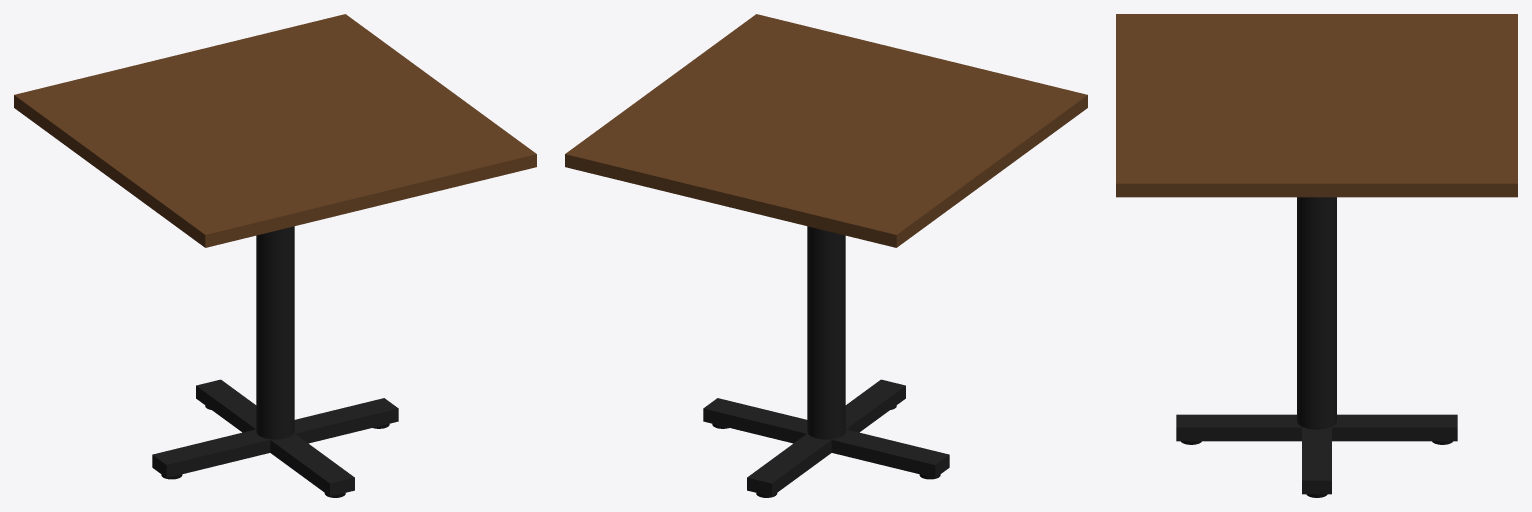
Rendered from mesa-cruceta.glb.
3 views of the same model, side by side, from view 1: azimuth 30°, elevation 25°; view 2: azimuth 150°, elevation 25°; view 3: azimuth 270°, elevation 25° (orthographic). The views are drawn at different scales.
Visible parts, largest first — view 1: mesa-cruceta; view 2: mesa-cruceta; view 3: mesa-cruceta.
Boxes of the visible parts, x1,y1,x2,y2 form: mesa-cruceta: [14, 14, 536, 497]; mesa-cruceta: [565, 14, 1087, 497]; mesa-cruceta: [1116, 14, 1517, 497].
Bounding box in the file's own units: 0.8 × 0.75 × 0.8.
